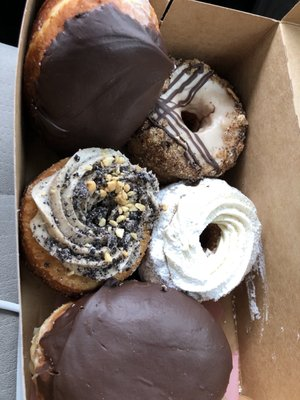salad: (30, 279, 234, 400), (21, 0, 175, 154), (19, 147, 161, 296), (140, 178, 265, 304), (127, 59, 249, 185)
